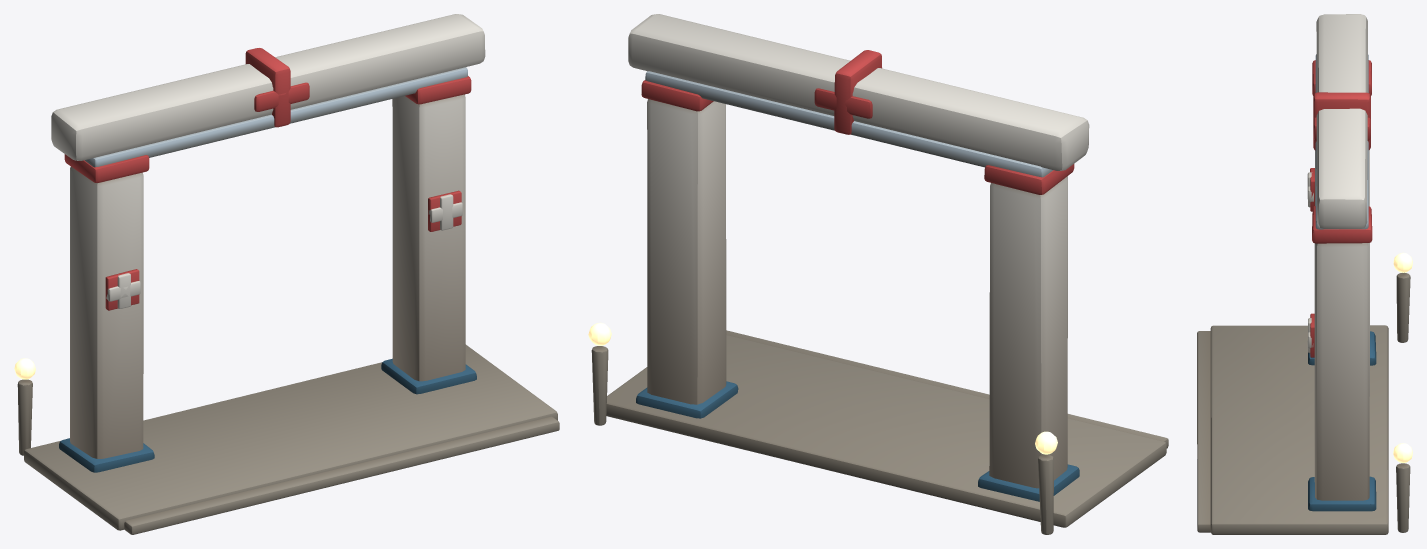
3 views of the same model, side by side, from view 1: azimuth 30°, elevation 25°; view 2: azimuth 150°, elevation 25°; view 3: azimuth 270°, elevation 25° (orthographic). The views are drawn at different scales.
Visible parts, largest first — view 1: gate_7e8b124b; view 2: gate_7e8b124b; view 3: gate_7e8b124b.
Boxes of the visible parts, <box> form: gate_7e8b124b: <box>14,14,559,534</box>; gate_7e8b124b: <box>588,14,1168,534</box>; gate_7e8b124b: <box>1197,14,1412,534</box>.
Size of the model in its own units: 5.58 by 4.46 by 2.55.
